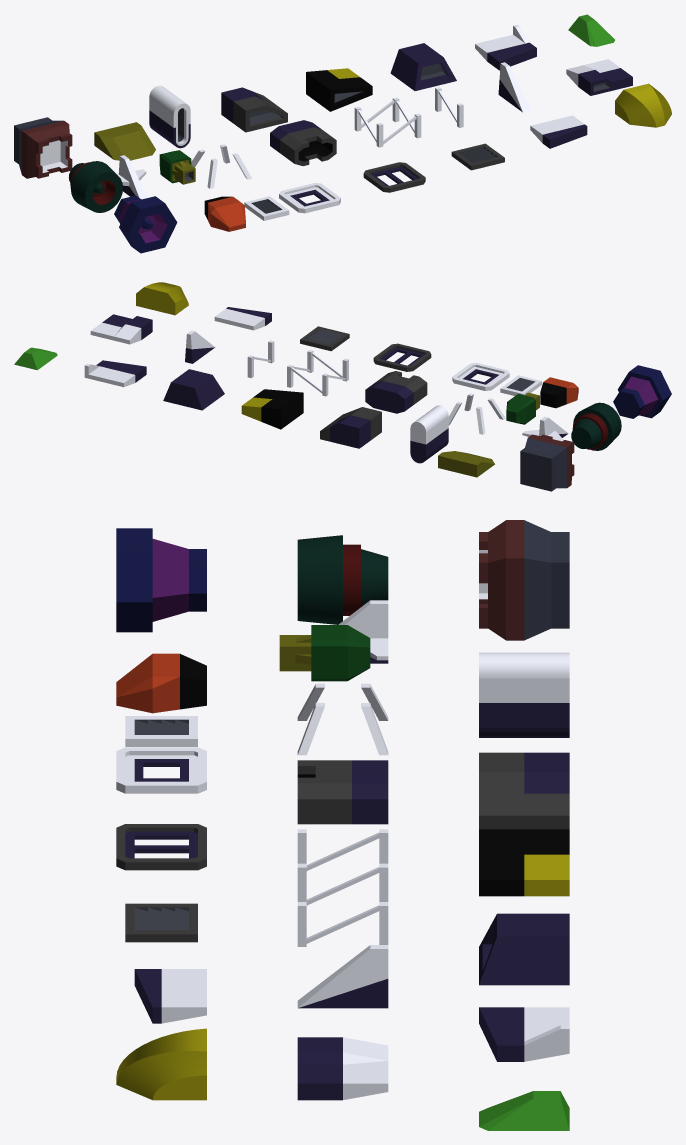
Rendered from things.obj.
3 views of the same model, one above another, from view 1: azimuth 30°, elevation 25°; view 2: azimuth 150°, elevation 25°; view 3: azimuth 270°, elevation 25° (orthographic). The views are drawn at different scales.
Visible parts, largest first — view 1: engine_turbineSquare, engine_turbine, engine_low, engine_round, hull_topEngine, engine_flatEdge, engine_flat, engine_capsule, window_slant, window_low, wing_engine, wing_slantWingletHigh (+13 smaller); view 2: engine_turbineSquare, engine_turbine, engine_low, engine_round, engine_flatEdge, engine_flat, engine_capsule, hull_topEngine, wing_engine, window_slant, wing_slantWingletHigh, window_low (+13 smaller); view 3: engine_turbineSquare, engine_capsule, engine_turbine, engine_flat, engine_round, hull_topEngine, engine_flatEdge, engine_low, wing_engine, window_slant, wing_slantWingletHigh, window_pilot (+12 smaller).
Boxes of the visible parts, x1,y1,x2,y2 form: engine_turbineSquare: [14, 117, 72, 178]; engine_turbine: [114, 195, 177, 253]; engine_low: [270, 120, 336, 165]; engine_round: [68, 161, 122, 212]; hull_topEngine: [390, 43, 456, 90]; engine_flatEdge: [306, 68, 372, 111]; engine_flat: [221, 87, 287, 132]; engine_capsule: [149, 85, 190, 148]; window_slant: [615, 83, 671, 127]; window_low: [94, 122, 155, 160]; wing_engine: [566, 59, 632, 95]; wing_slantWingletHigh: [475, 25, 536, 70]; engine_turbineSquare: [520, 434, 574, 491]; engine_turbine: [613, 365, 671, 418]; engine_low: [365, 371, 427, 413]; engine_round: [571, 402, 621, 450]; engine_flatEdge: [241, 389, 303, 429]; engine_flat: [320, 407, 381, 448]; engine_capsule: [410, 405, 448, 463]; hull_topEngine: [163, 369, 224, 410]; wing_engine: [90, 314, 152, 344]; window_slant: [136, 282, 188, 315]; wing_slantWingletHigh: [84, 360, 146, 387]; window_low: [438, 451, 494, 477]; engine_turbineSquare: [479, 520, 569, 640]; engine_capsule: [479, 652, 569, 737]; engine_turbine: [116, 528, 206, 632]; engine_flat: [479, 752, 569, 829]; engine_round: [297, 535, 388, 624]; hull_topEngine: [479, 913, 569, 985]; engine_flatEdge: [479, 829, 569, 896]; engine_low: [297, 760, 388, 824]; wing_engine: [297, 1037, 388, 1100]; window_slant: [116, 1028, 206, 1100]; wing_slantWingletHigh: [479, 1007, 569, 1061]; window_pilot: [116, 653, 206, 713].
Size of the model in its own units: 13.88 by 1 by 5.
